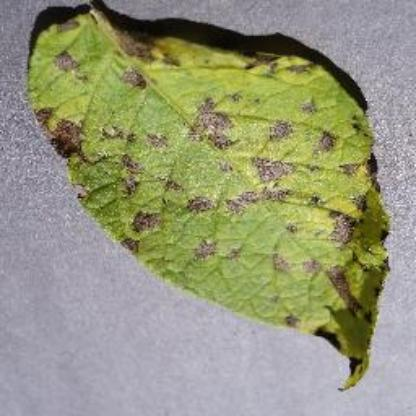Early-Blight: (26, 4, 400, 396)
